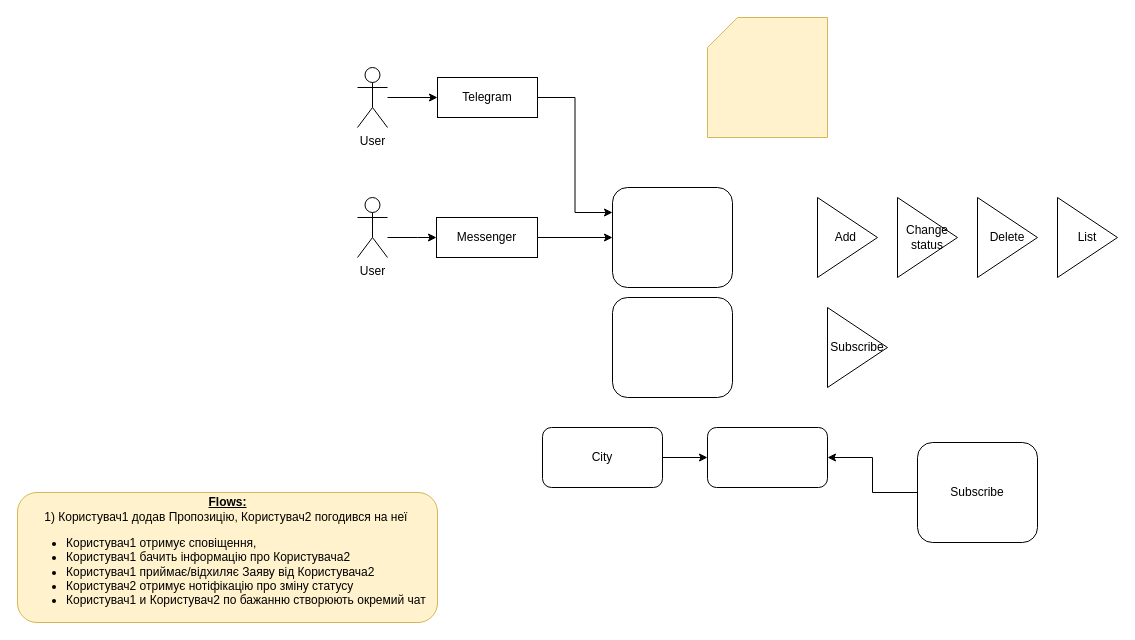
This 1135x640 diagram has some shape labels left out. The centre of each missing label's shape, as x and y in pixels:
"Applicant" belongs at (672,347).
"Name Author Count of people Status Date, Time Place" belongs at (767,77).
"Place" belongs at (767,457).
"Proposal" belongs at (672,237).
